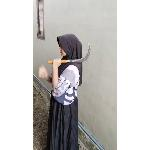Celurit: (47, 43, 93, 65)
